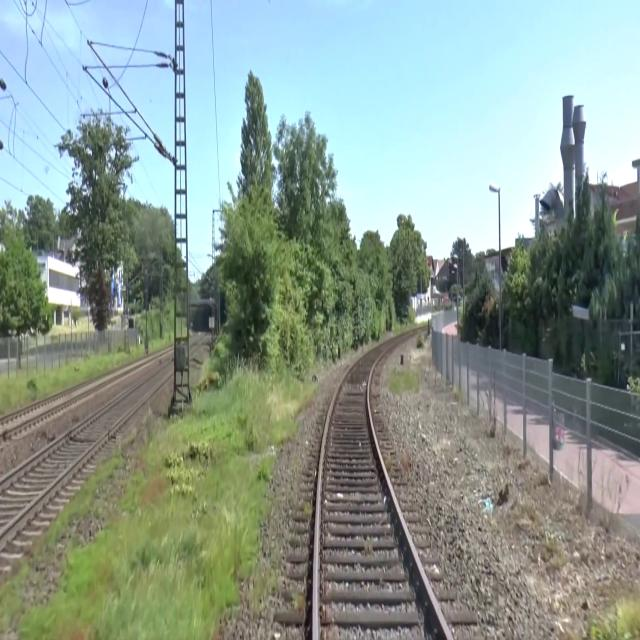rail-track: (319, 339, 447, 639), (0, 360, 173, 528), (0, 373, 113, 430), (189, 334, 205, 350)
